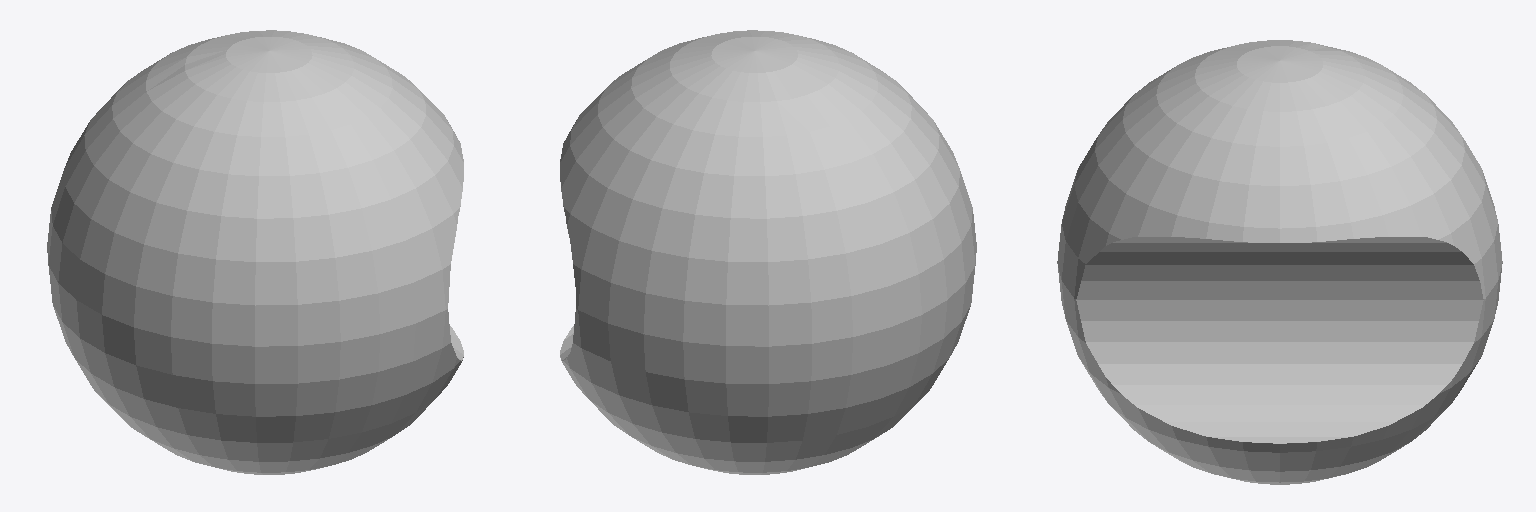
File: half_sphere.obj
The picture shows the model from 3 angles: view 1: azimuth 30°, elevation 25°; view 2: azimuth 150°, elevation 25°; view 3: azimuth 270°, elevation 25°; orthographic projection.
Visible parts, largest first — view 1: HalfSphere; view 2: HalfSphere; view 3: HalfSphere.
Boxes of the visible parts, x1,y1,x2,y2 form: HalfSphere: [47, 30, 463, 474]; HalfSphere: [560, 30, 976, 474]; HalfSphere: [1057, 40, 1502, 484].
Size of the model in its own units: 0.9316 by 1 by 1.